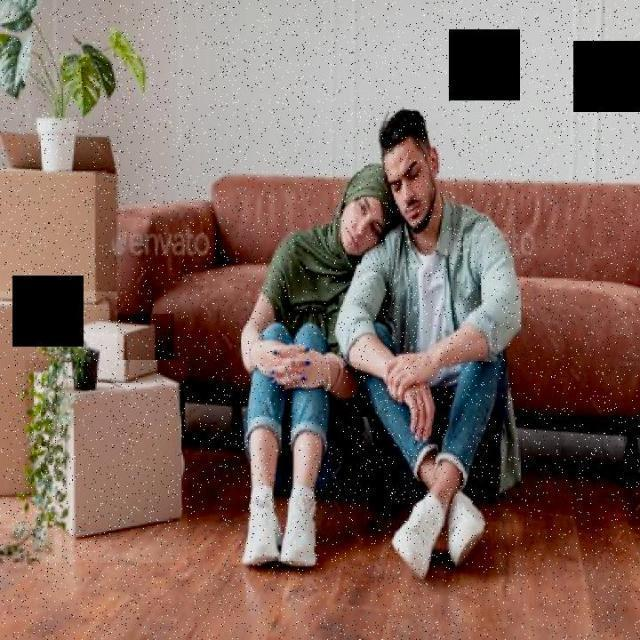box: (24, 360, 188, 563), (0, 291, 117, 528), (0, 120, 122, 308), (72, 314, 176, 406)
